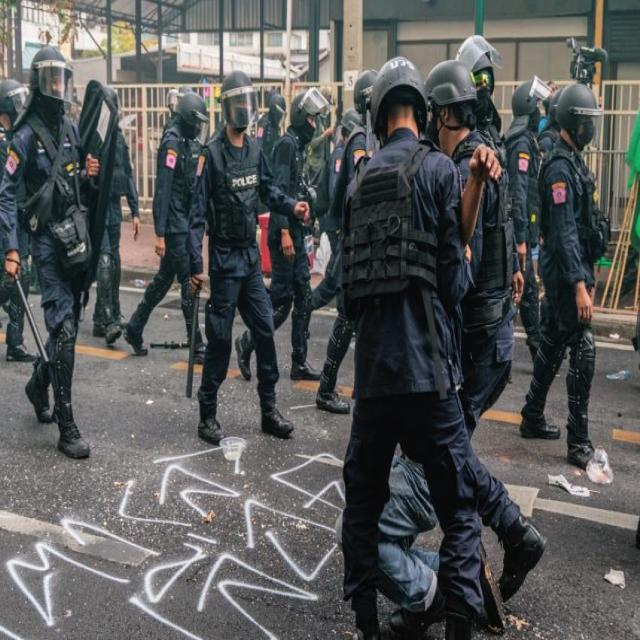police: (330, 47, 518, 640), (0, 27, 127, 505), (519, 20, 623, 510), (183, 59, 298, 465), (264, 44, 345, 442), (134, 59, 223, 418)
